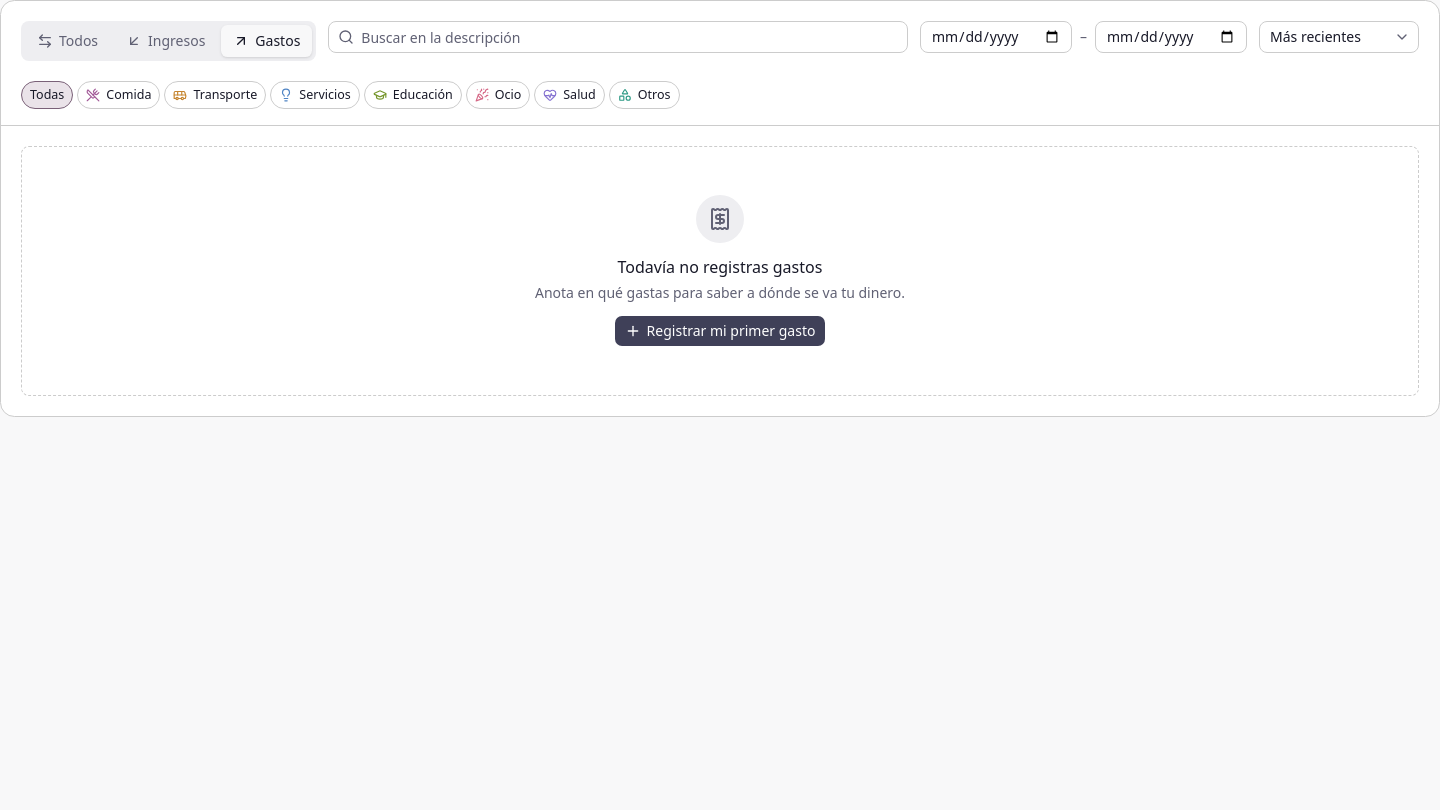
it: ExpensesPage › sin gastos ofrece registrar el primero
Click the button "Registrar mi primer gasto" at (720, 331), box [614,315,826,347]
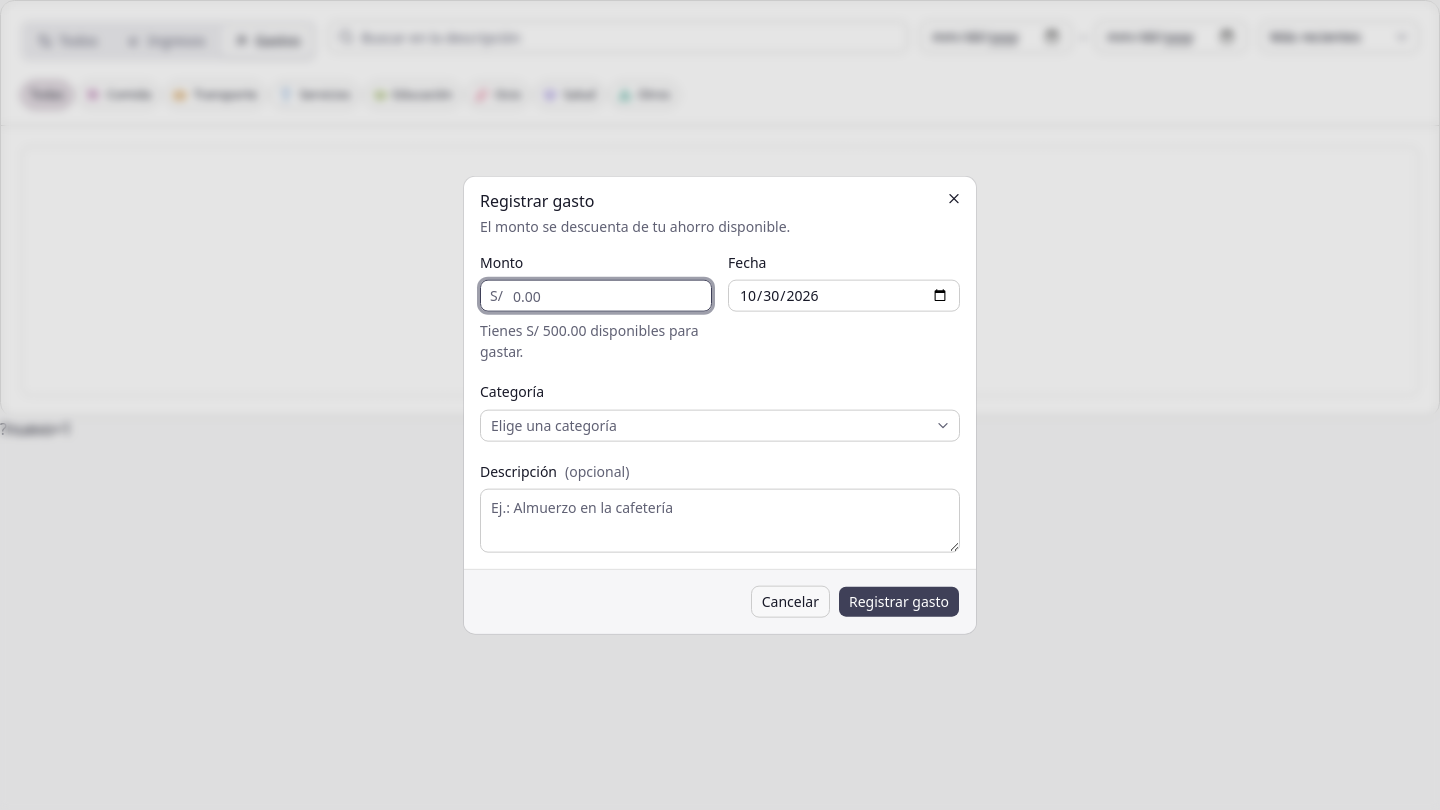
Expected: the text with test id "url" reads "?nuevo=1", [0,418,72,440]
Expected: the dialog "Registrar gasto" is shown, [464,177,976,633]
